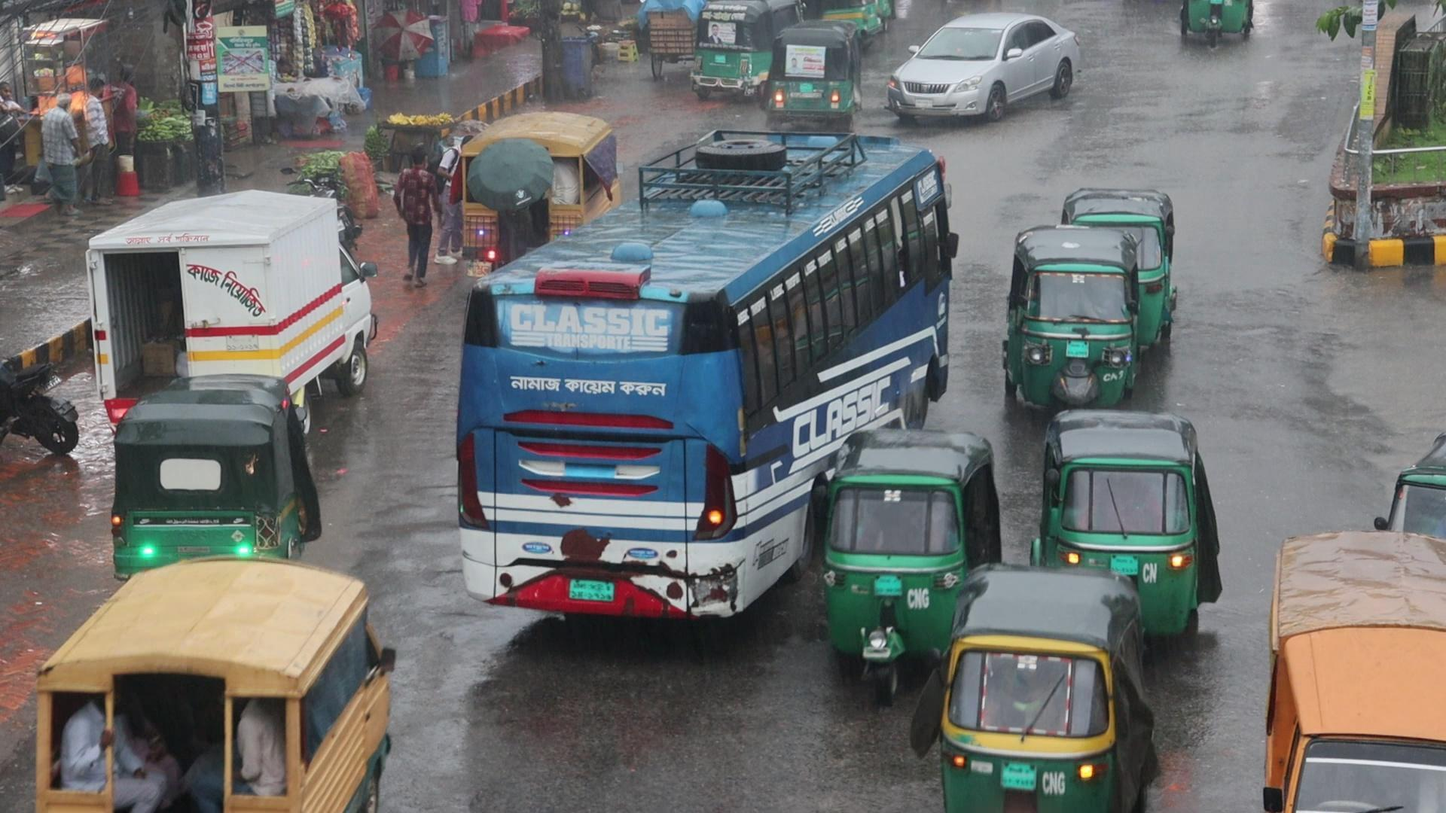Bus: (458, 137, 963, 618)
Car: (881, 5, 1084, 129)
Truck: (445, 106, 620, 269)
